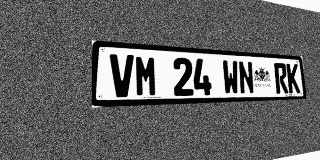2: (173, 57, 194, 96)
4: (193, 58, 212, 95)
K: (286, 63, 300, 93)
M: (135, 55, 158, 97)
N: (238, 61, 255, 94)
R: (274, 63, 288, 93)
V: (110, 54, 134, 97)
W: (222, 60, 240, 95)
